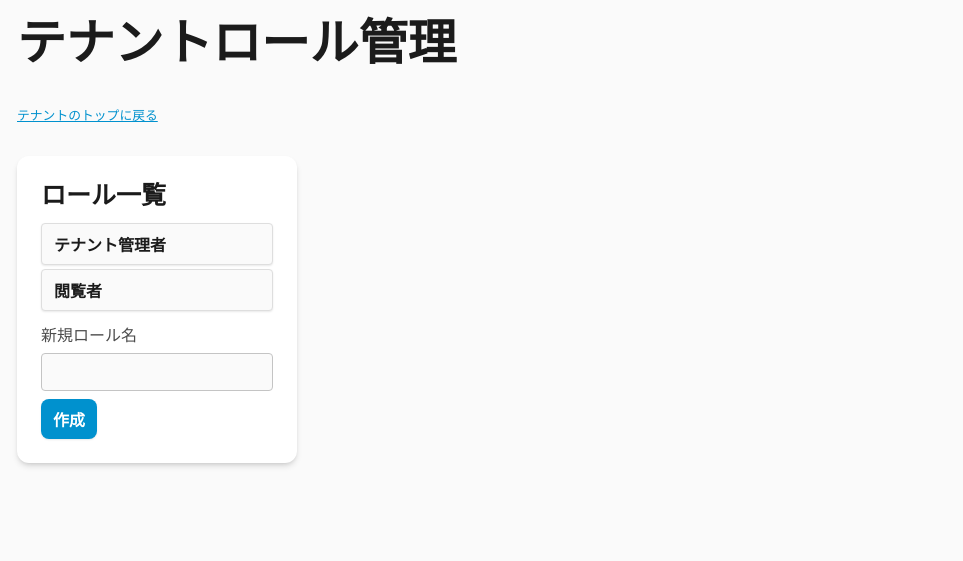
Test: tenant roles page › 既定以外のロールは削除・権限保存の操作を表示する
This screenshot has width=963, height=561.
Step 1. Click the button "閲覧者" → (157, 290), box [41,269,273,311]
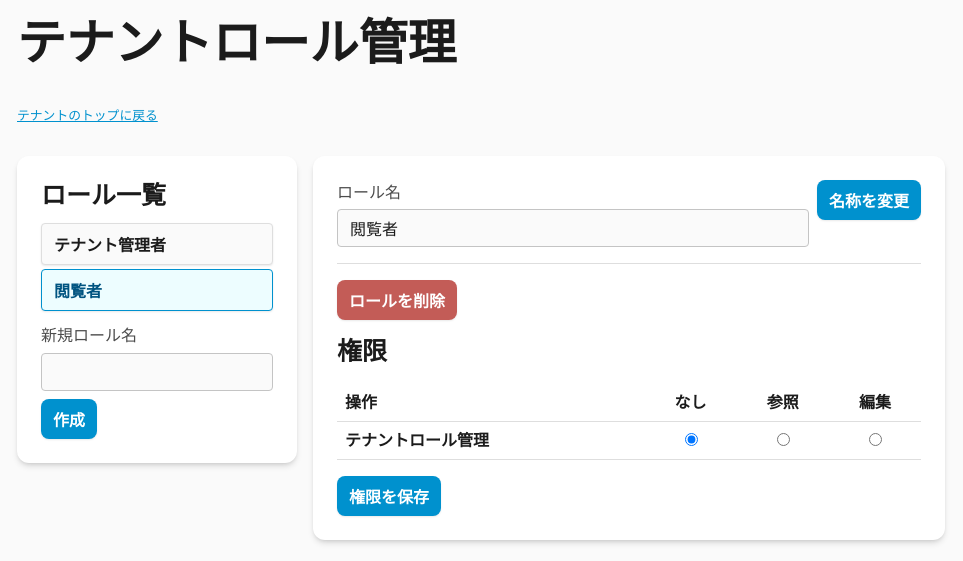
Expected: the button "ロールを削除" is shown, [337,280,457,320]
Expected: the button "権限を保存" is shown, [337,476,441,516]
